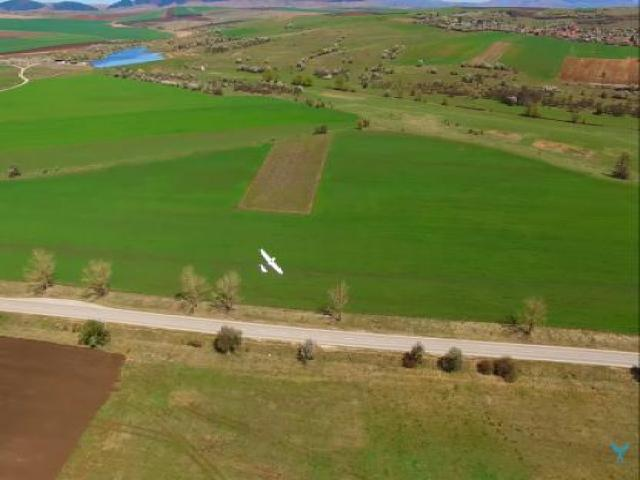uav: (253, 244, 287, 282)
